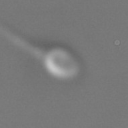normal: (1, 24, 46, 58)
